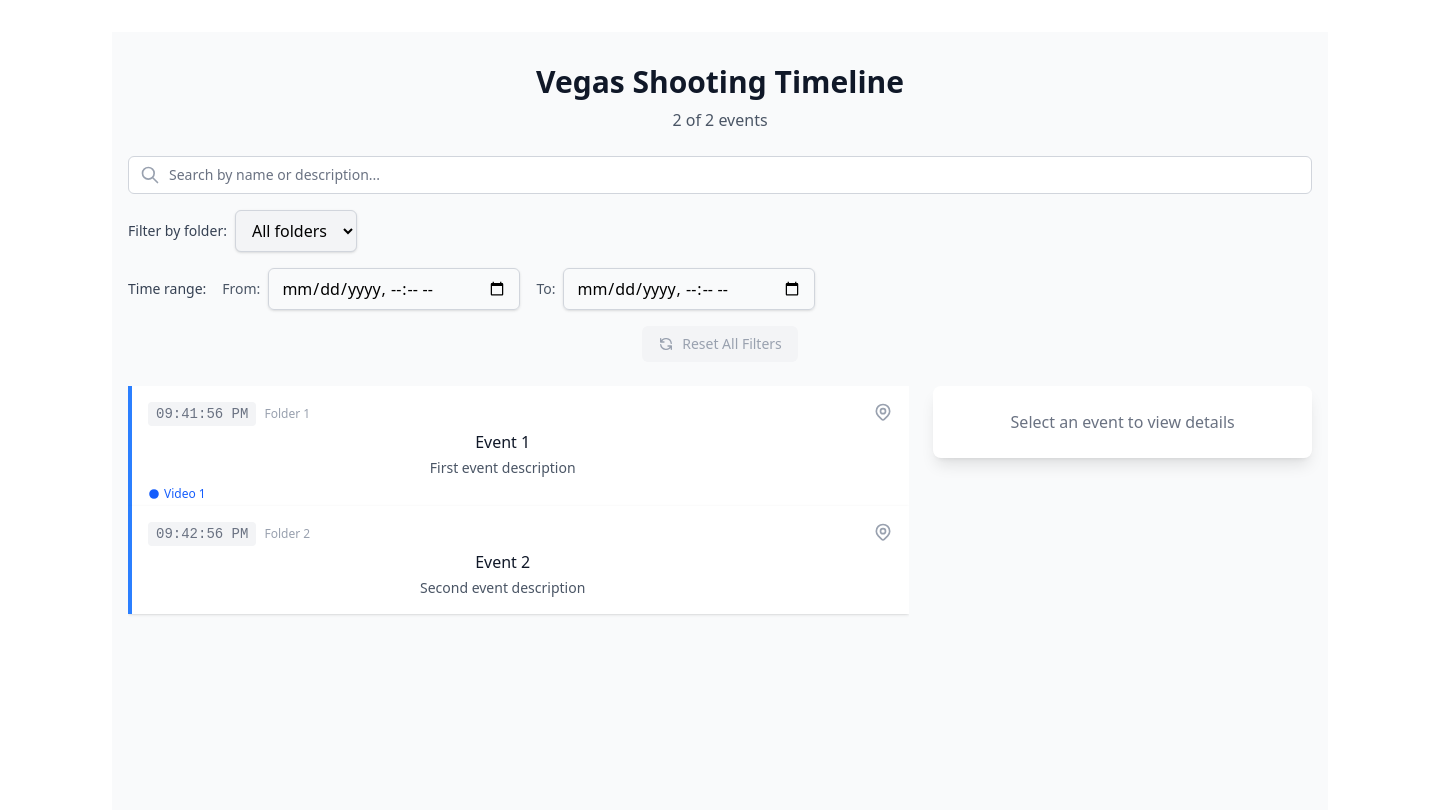
Test: Timeline - Selection and Detail Fetch Integration › fetches and displays placemark detail when an event is selected
Expected: the text "Select an event to view details" is shown, [933,386,1312,458]
// Click on first event - get all matches and click the first (in timeline)
What coordinates should you click on to do the following:
click the heading "Event 1"
I would click on:
 (503, 442)
Its box is [475,431,530,453].
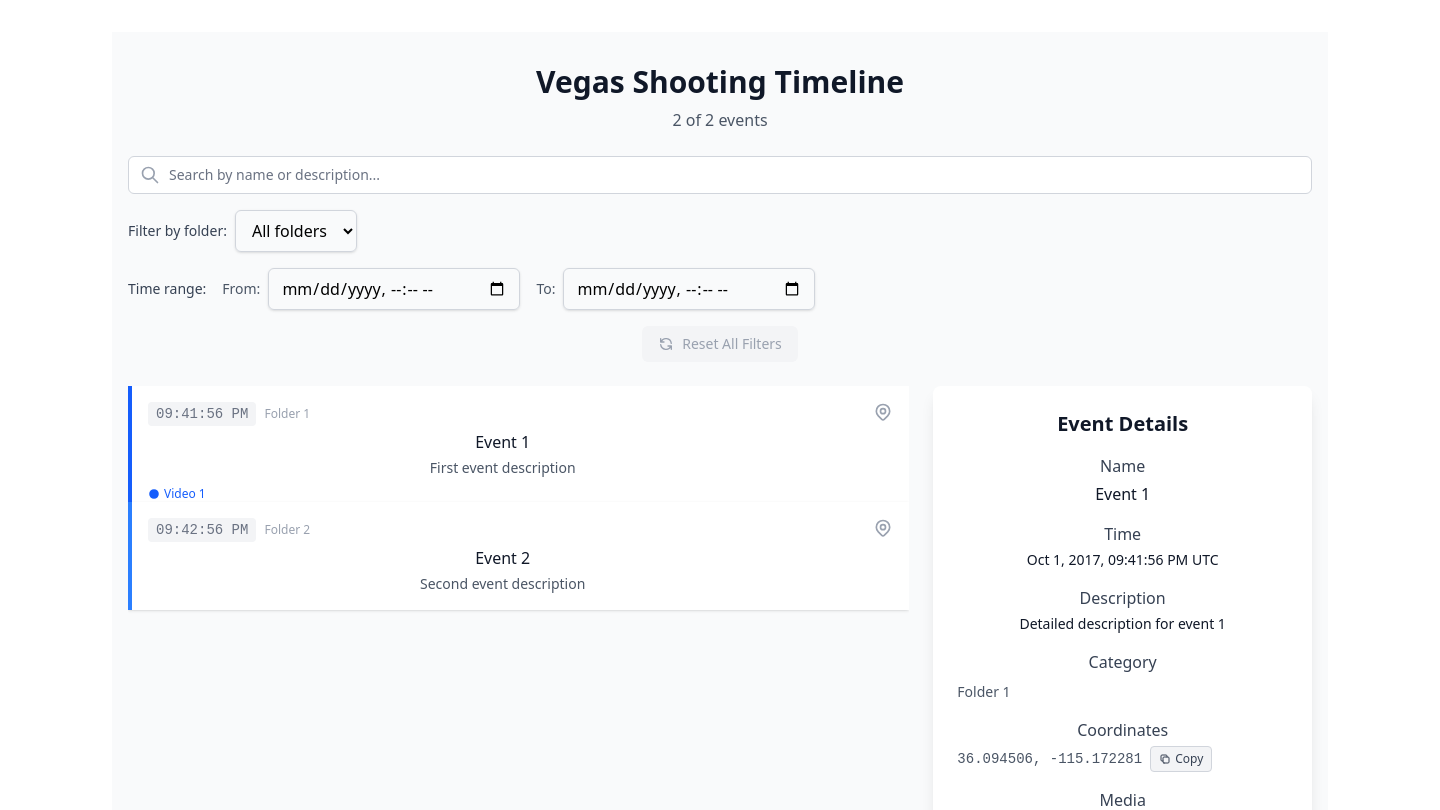
Expected: the heading "Event Details" is shown, [1057,410,1188,437]
Expected: the text "Detailed description for event 1" is shown, [1019,614,1226,633]
